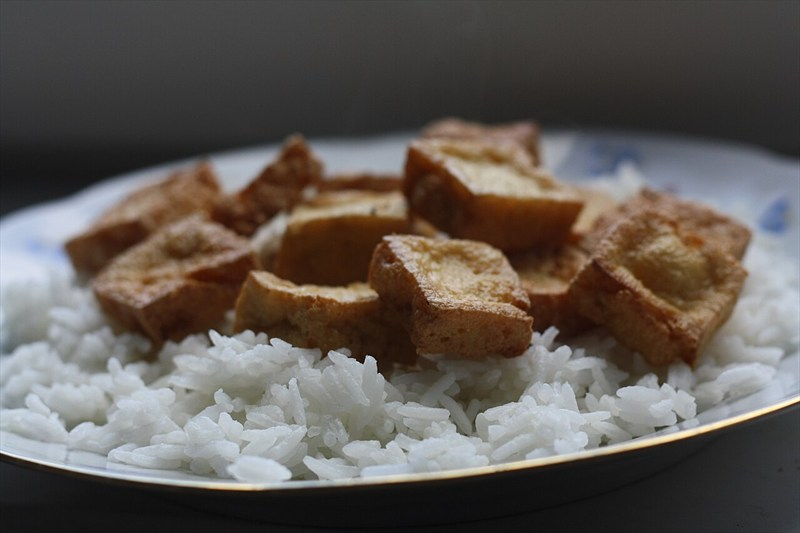Tahu Goreng: (16, 137, 768, 494)
